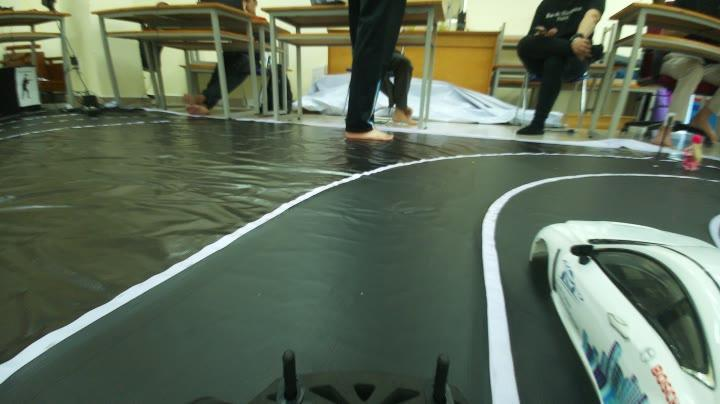car: (518, 210, 720, 404)
